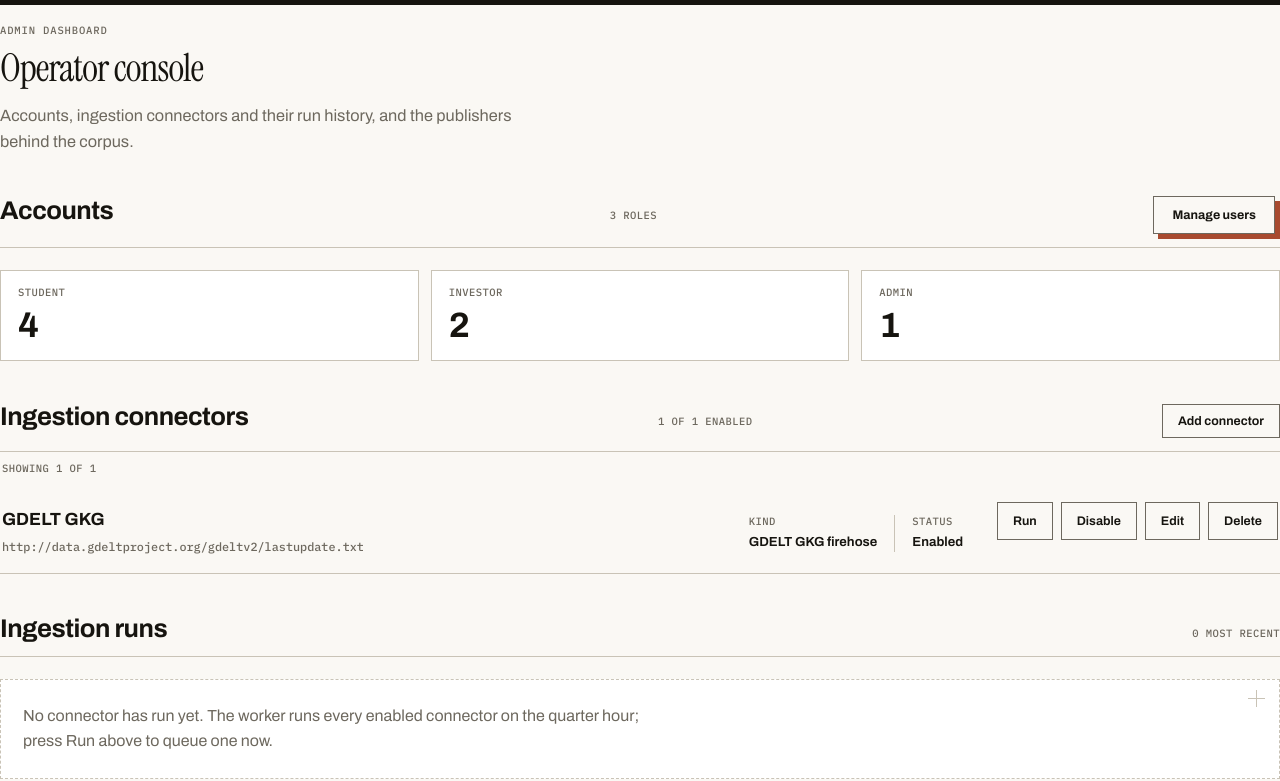
Admin dashboard › states what a deletion will keep before it happens, and what it kept after
Click the button "Delete" at [1243, 521], box [1208,501,1278,540]
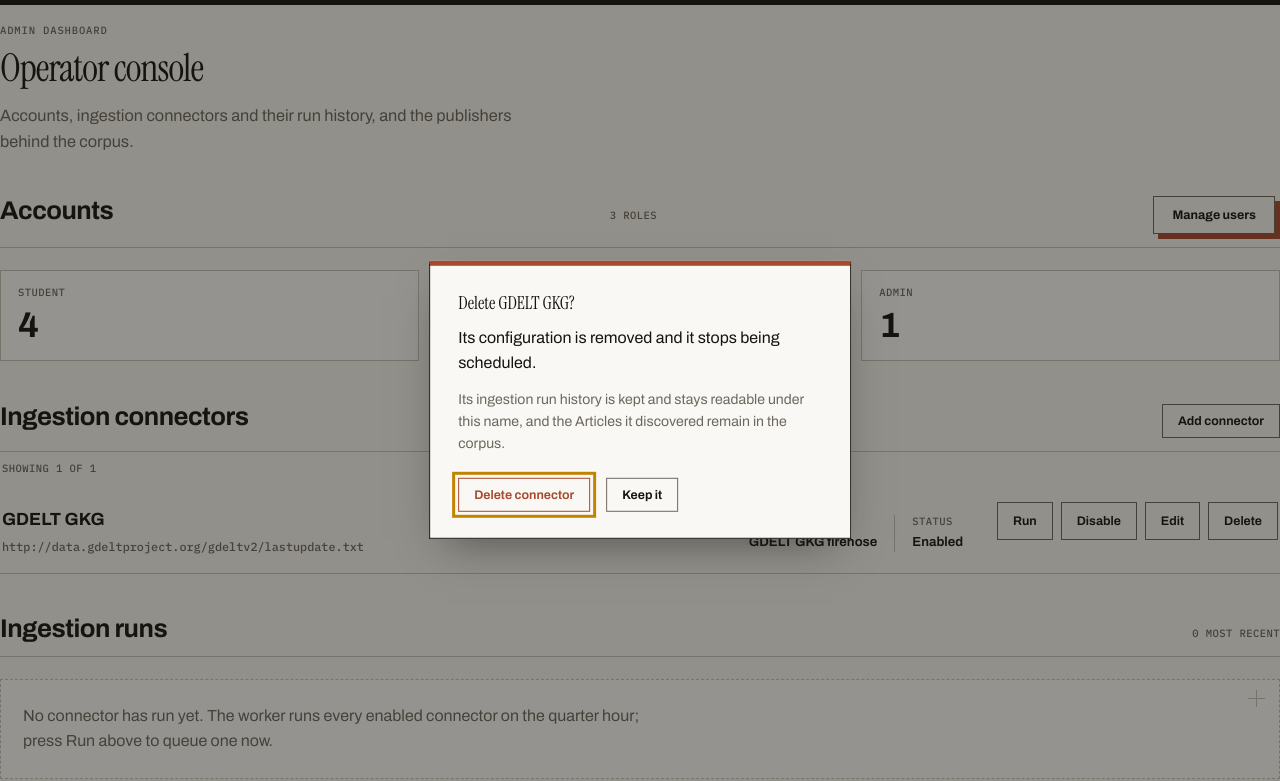
Expected: the heading reads "Delete GDELT GKG?", [458,291,575,315]
Expected: the dialog shows "run history is kept", [458,392,804,450]
Click the button "Delete connector" at [524, 495], box [458,478,590,512]
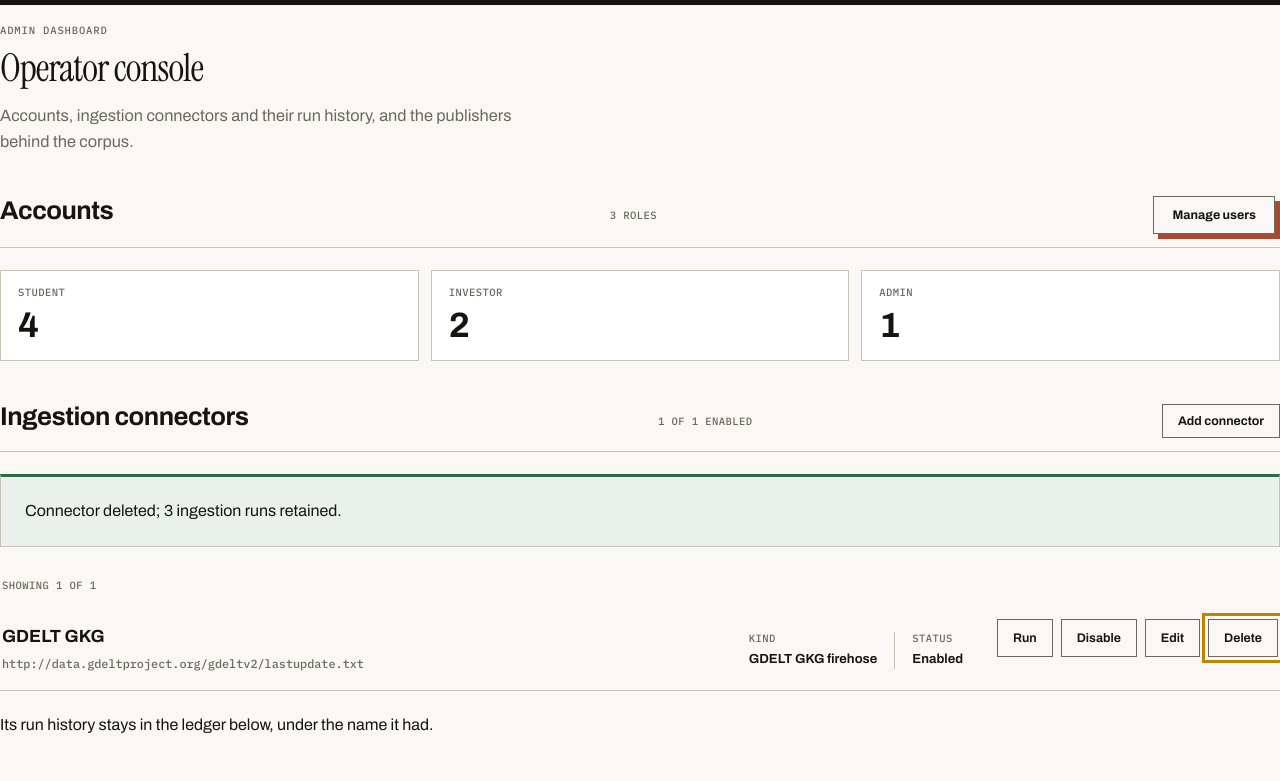
Expected: the message shows "3 ingestion runs retained", [25,502,342,519]
Expected: the text "run history stays in the ledger below" is shown, [0,716,434,733]
